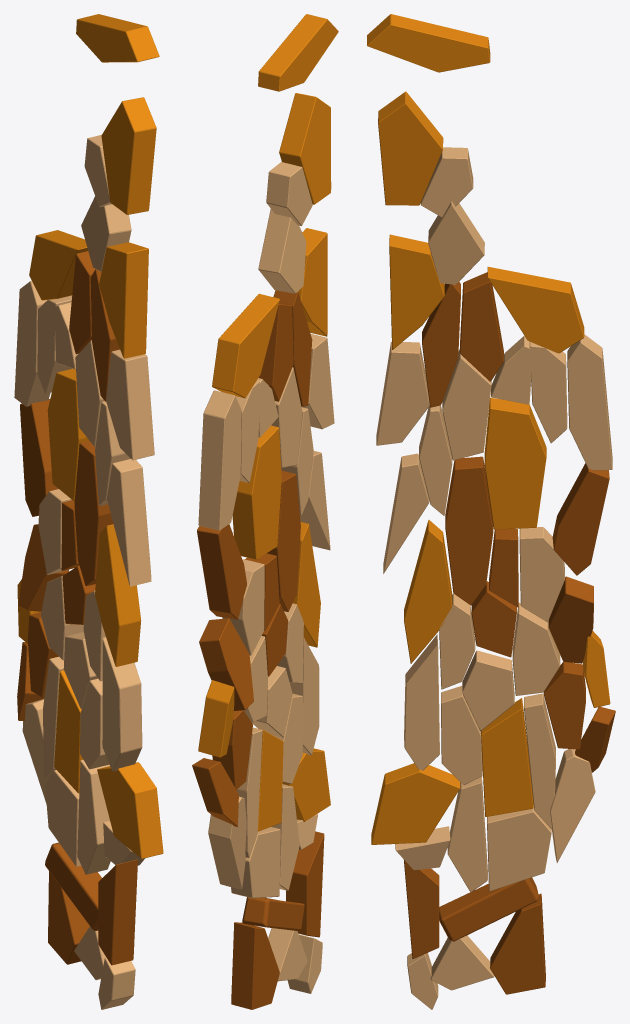
Rendered from Muro4.fbx.
The picture shows the model from 3 angles, left to right: view 1: azimuth 30°, elevation 25°; view 2: azimuth 150°, elevation 25°; view 3: azimuth 270°, elevation 25°; orthographic projection. The views are drawn at different scales.
Visible parts, largest first — view 1: Piedrote.114; view 2: Piedrote.114; view 3: Piedrote.114.
Part boxes in pixels (x1,y1,x2,y2): Piedrote.114: (14, 14, 163, 1009); Piedrote.114: (192, 14, 338, 1009); Piedrote.114: (367, 14, 615, 1009).
Size of the model in its own units: 91.18 by 1876 by 428.
